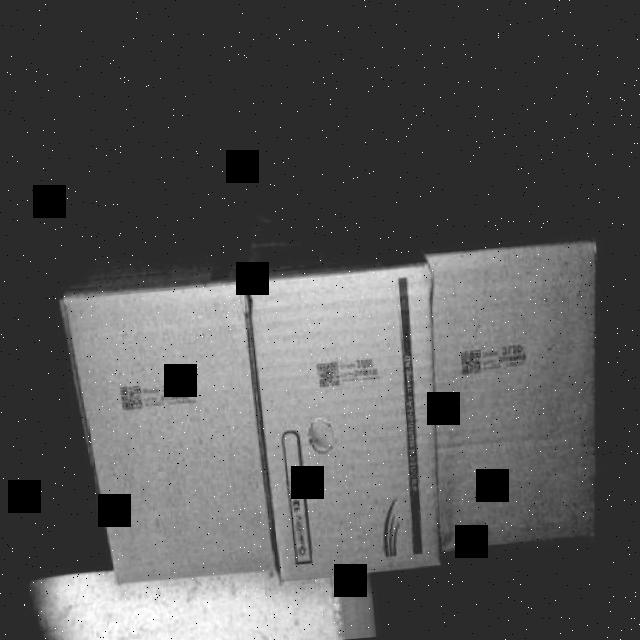box: (66, 284, 278, 586), (252, 271, 446, 579), (434, 242, 614, 560)
